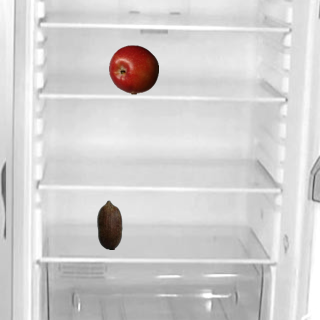Apple Braeburn: (108, 44, 158, 94)
Nut Pecan: (84, 199, 134, 249)
